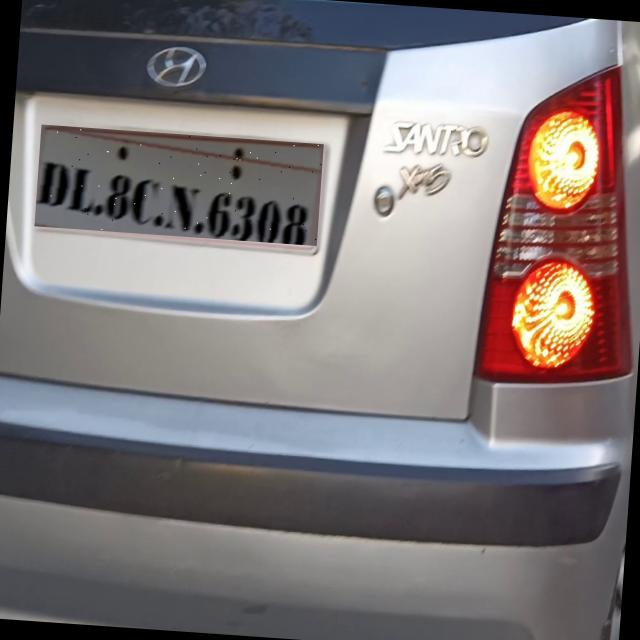Plate: (35, 126, 324, 247)
